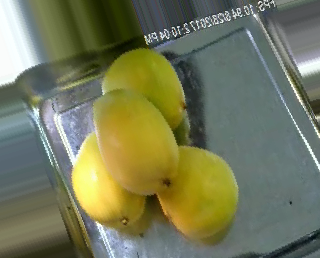Mango: (91, 88, 183, 198), (66, 130, 150, 231), (154, 143, 240, 241), (98, 45, 191, 134)
